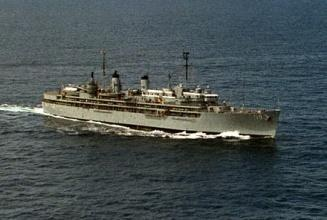warship: (43, 49, 284, 142)
